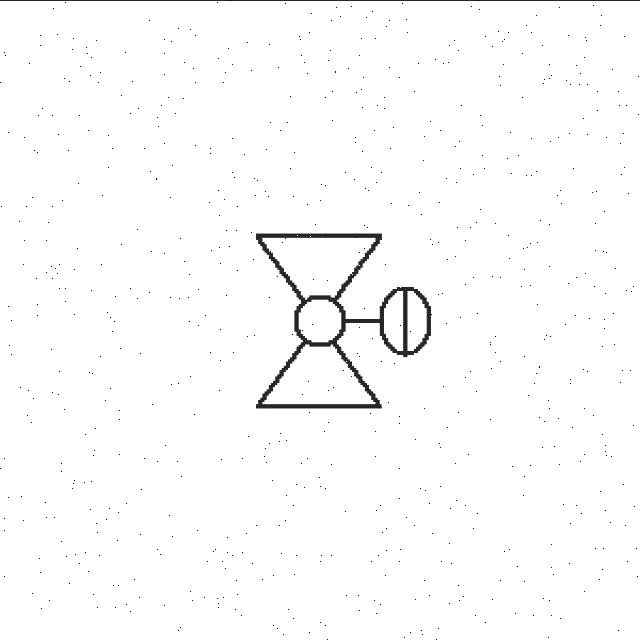Centrifugal Pump: (184, 144, 496, 498)
